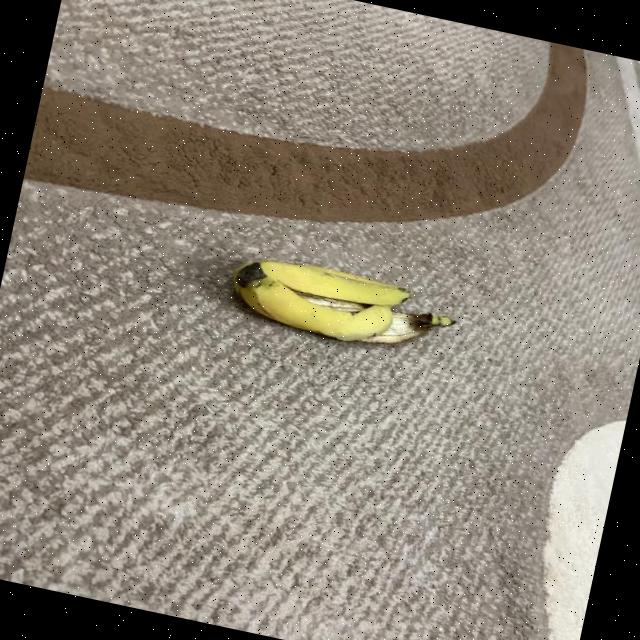banana-peel: (224, 248, 461, 364)
